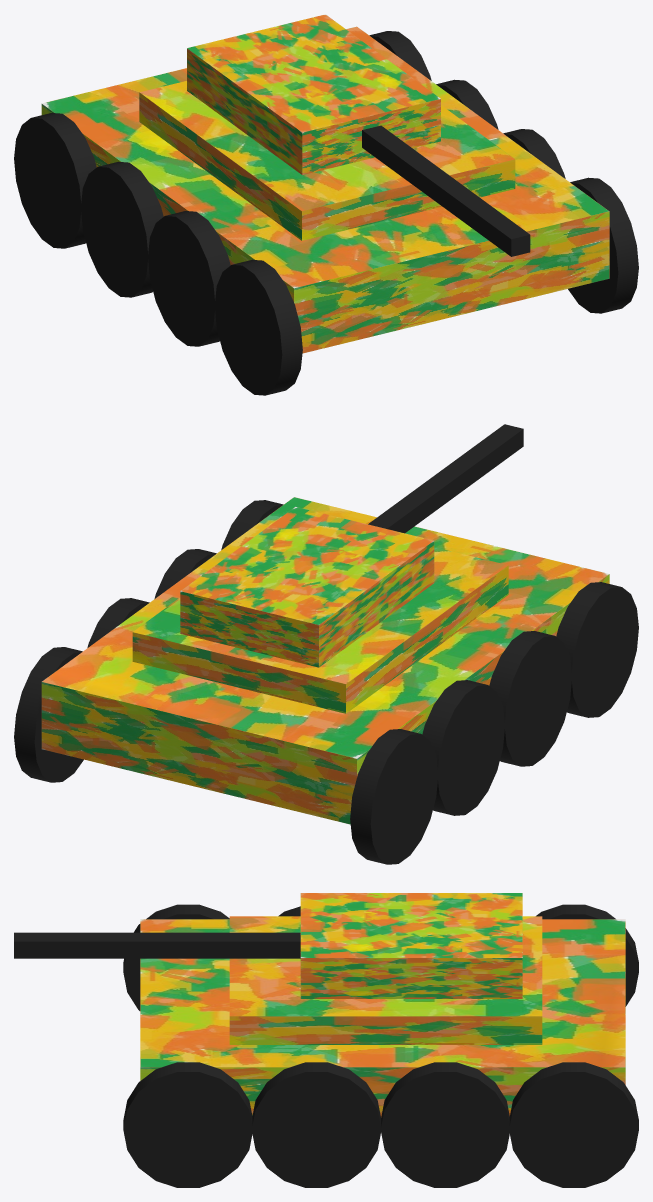
The model's file is tank.FBX.
3 views of the same model, one above another, from view 1: azimuth 30°, elevation 25°; view 2: azimuth 150°, elevation 25°; view 3: azimuth 270°, elevation 25° (orthographic). The views are drawn at different scales.
Visible parts, largest first — view 1: tankbody, tanktop, tankgun; view 2: tankbody, tanktop, tankgun; view 3: tankbody, tanktop, tankgun.
Part boxes in pixels (left/top/right/bottom): tankbody: left=14, top=26, right=638, bottom=395; tanktop: left=187, top=14, right=440, bottom=174; tankgun: left=362, top=125, right=530, bottom=256; tankbody: left=14, top=497, right=638, bottom=864; tanktop: left=180, top=507, right=434, bottom=667; tankgun: left=368, top=424, right=523, bottom=533; tankbody: left=123, top=904, right=638, bottom=1187; tanktop: left=300, top=893, right=522, bottom=998; tankgun: left=14, top=932, right=300, bottom=958.
Bounding box in the file's own units: 1512 × 760 × 2387.
Materials: 2 (1 with a texture image).
